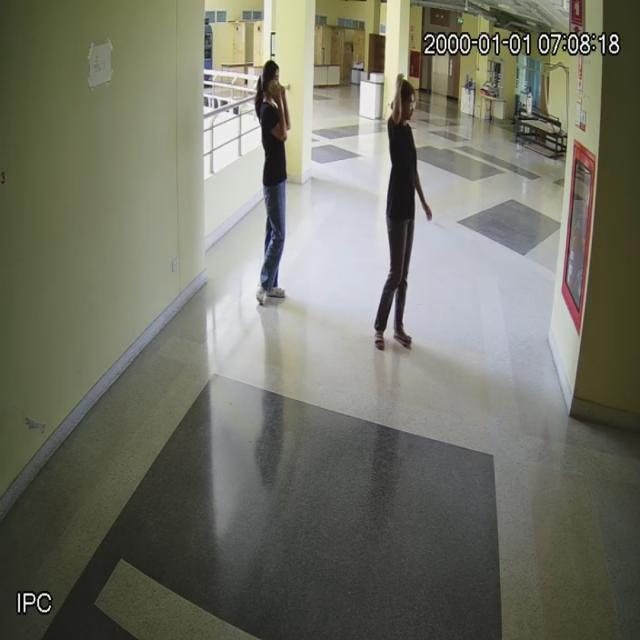normal: (371, 66, 431, 350), (249, 46, 301, 308)
